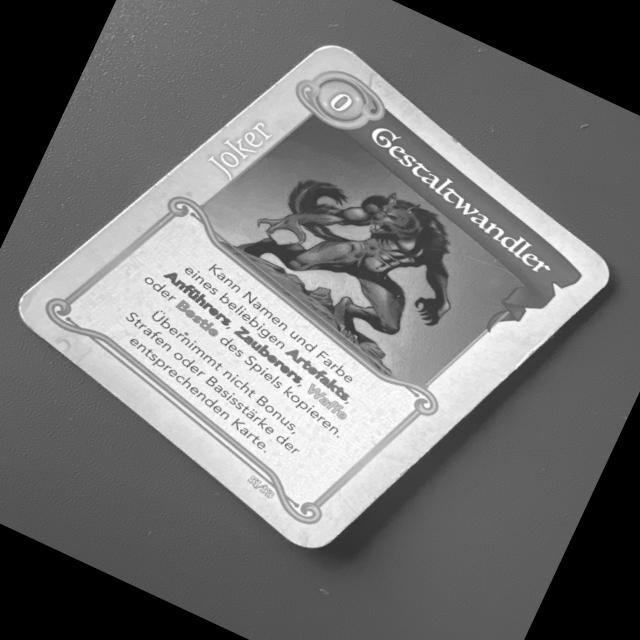Shapeshifter: (10, 37, 623, 562)
